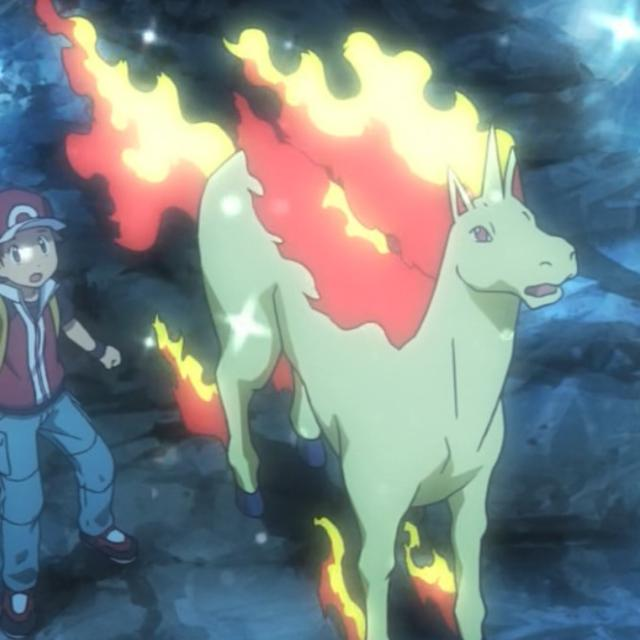Rapidash: (197, 84, 585, 640)
